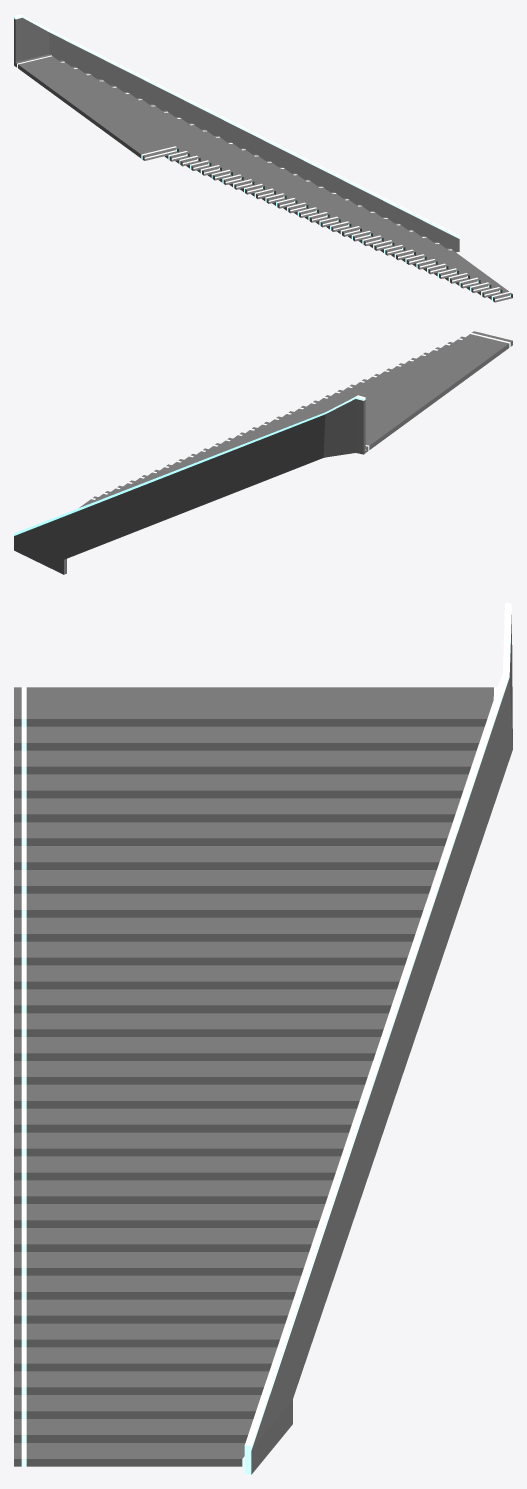
Rendered from Stairs_F_L.fbx.
3 views of the same model, one above another, from view 1: azimuth 30°, elevation 25°; view 2: azimuth 150°, elevation 25°; view 3: azimuth 270°, elevation 25° (orthographic). The views are drawn at different scales.
Parts seen in each view (by area): view 1: Stairs_F_L; view 2: Stairs_F_L; view 3: Stairs_F_L.
Boxes of the visible parts, <box> form: Stairs_F_L: <box>14,14,512,302</box>; Stairs_F_L: <box>14,331,512,574</box>; Stairs_F_L: <box>14,603,512,1474</box>.
Bounding box in the file's own units: 1287 × 900 × 777.
